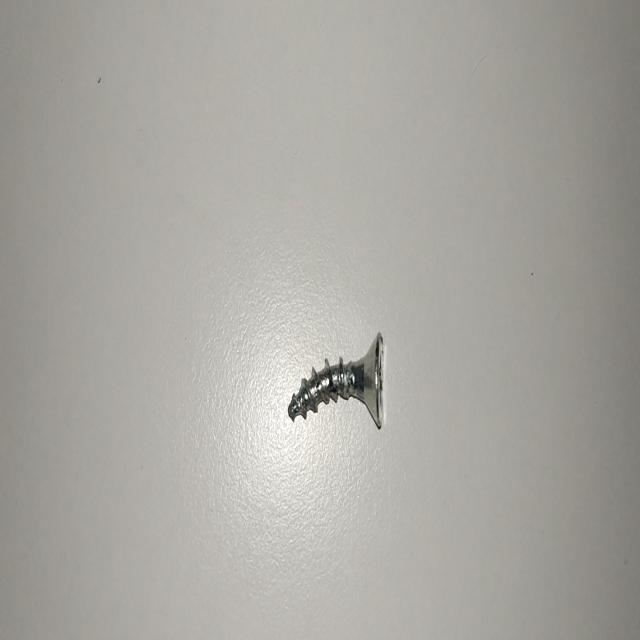Screw: (288, 332, 384, 428)
